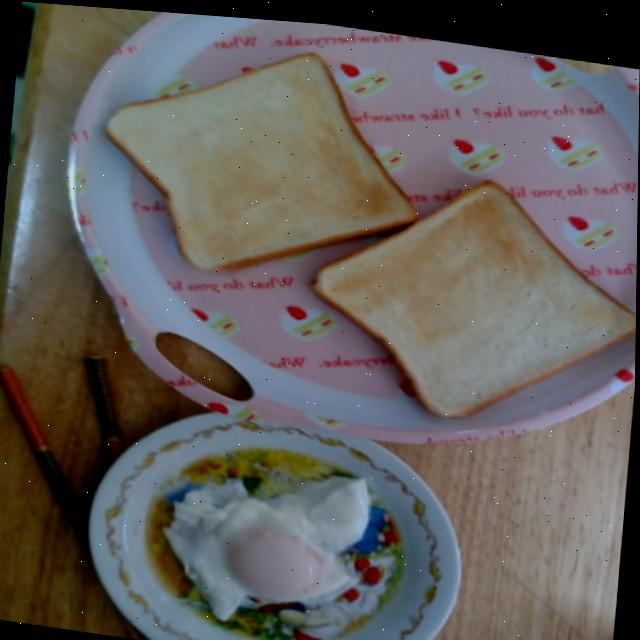面包点心: (296, 143, 639, 455), (78, 5, 420, 311)
鸡蛋料理: (147, 451, 400, 640)
